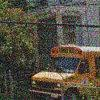buses: (27, 43, 100, 98)
